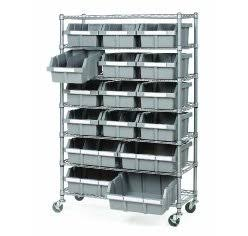Carts: (52, 12, 199, 227)
